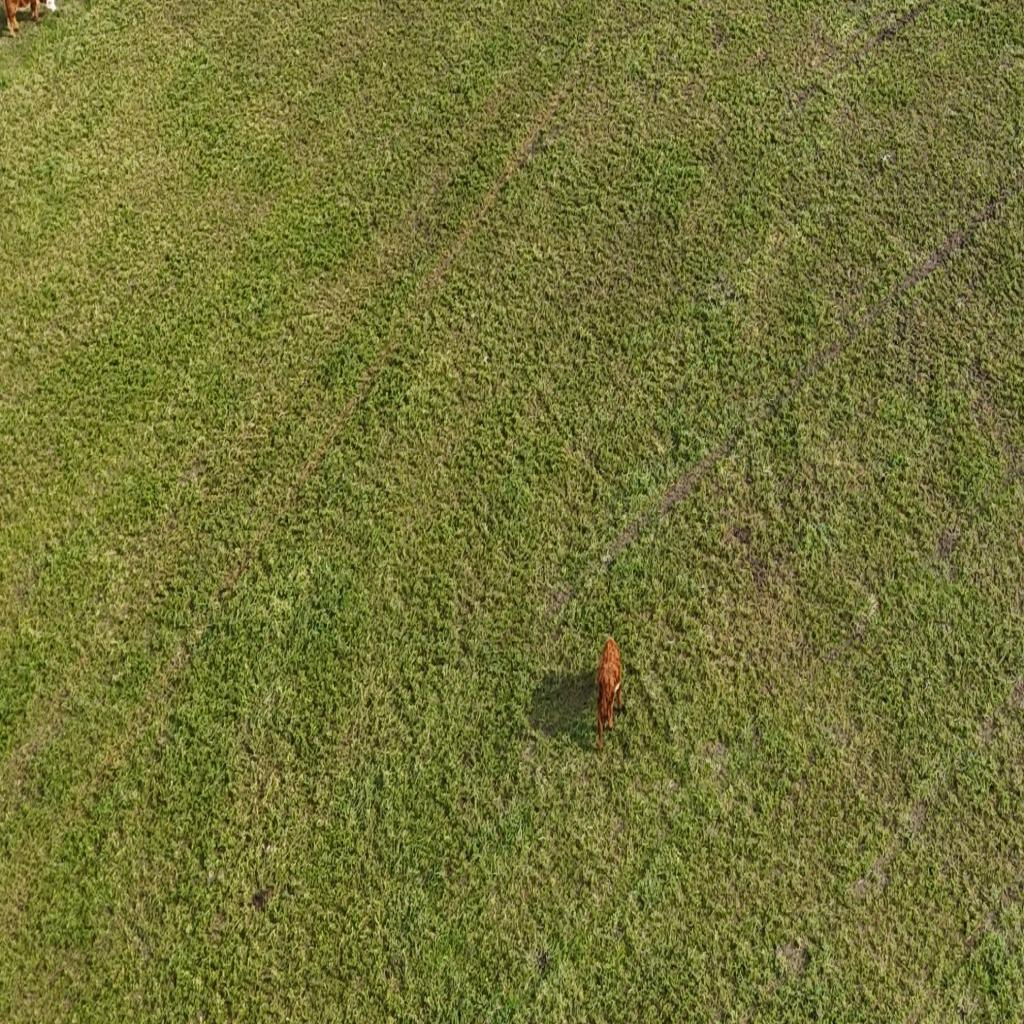cow: (593, 634, 626, 750)
